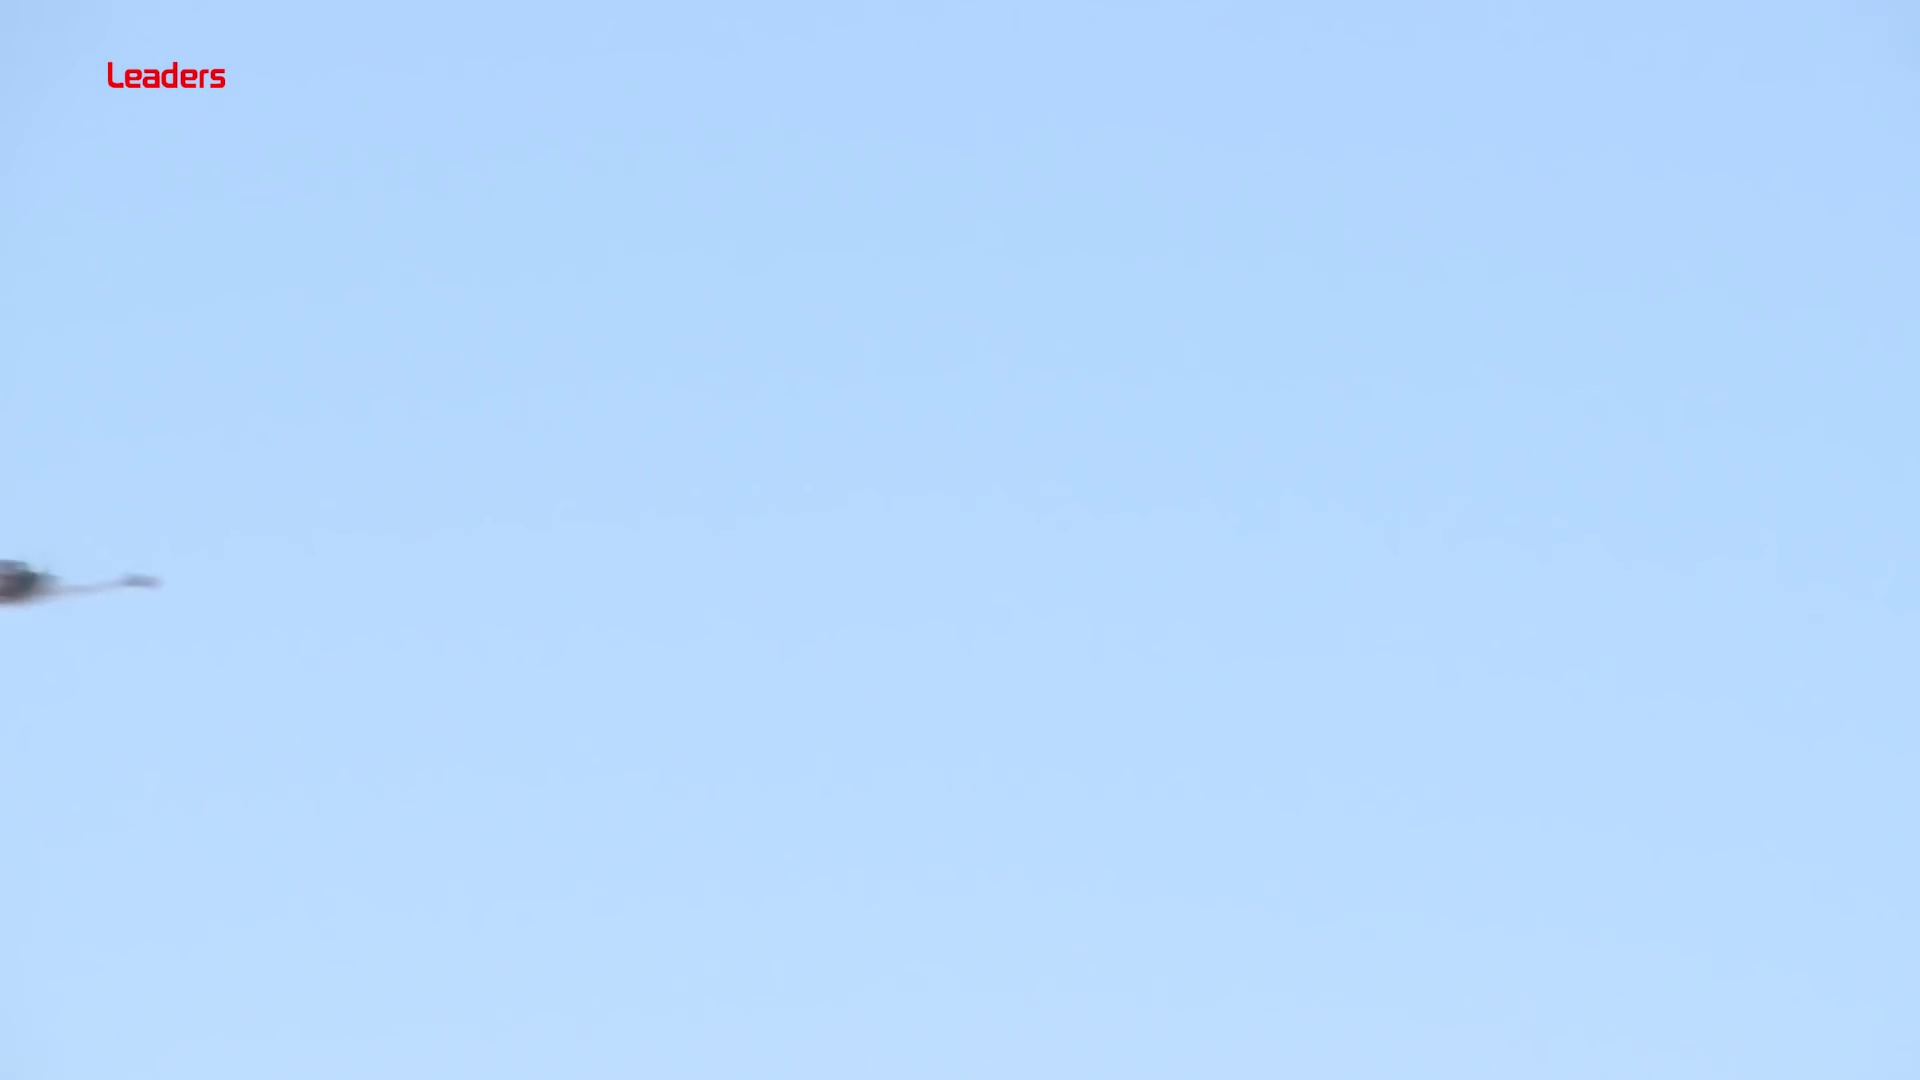Airplane: (1, 525, 166, 611)
